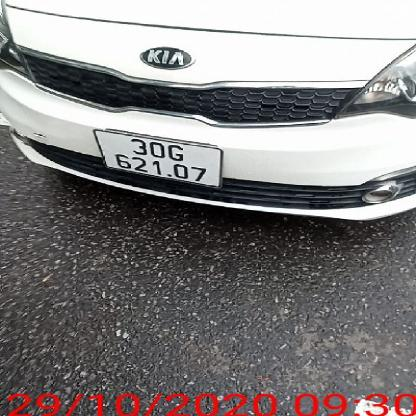biensoxe: (91, 126, 223, 187)
